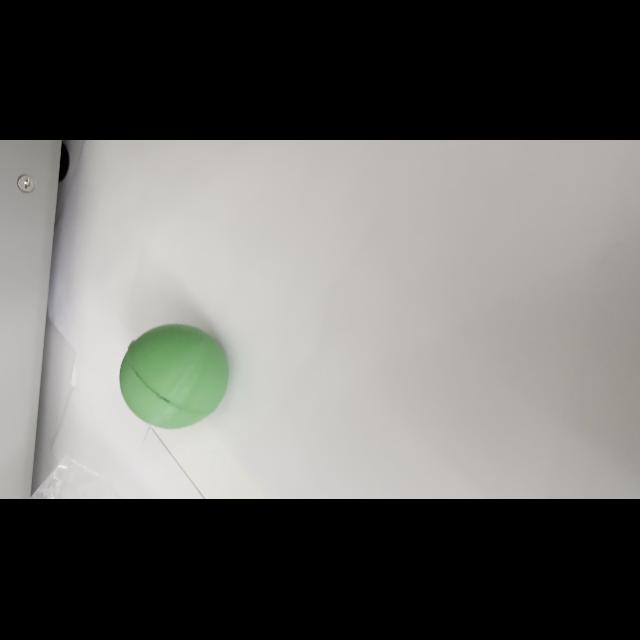objects: (111, 318, 236, 434)
